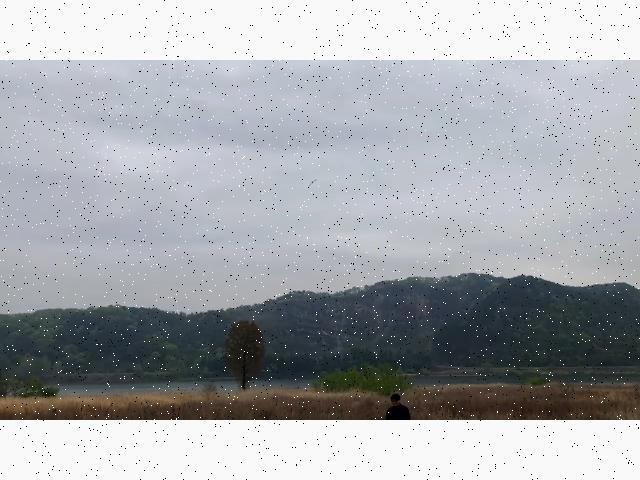Anti-Drone: (298, 175, 330, 191)
